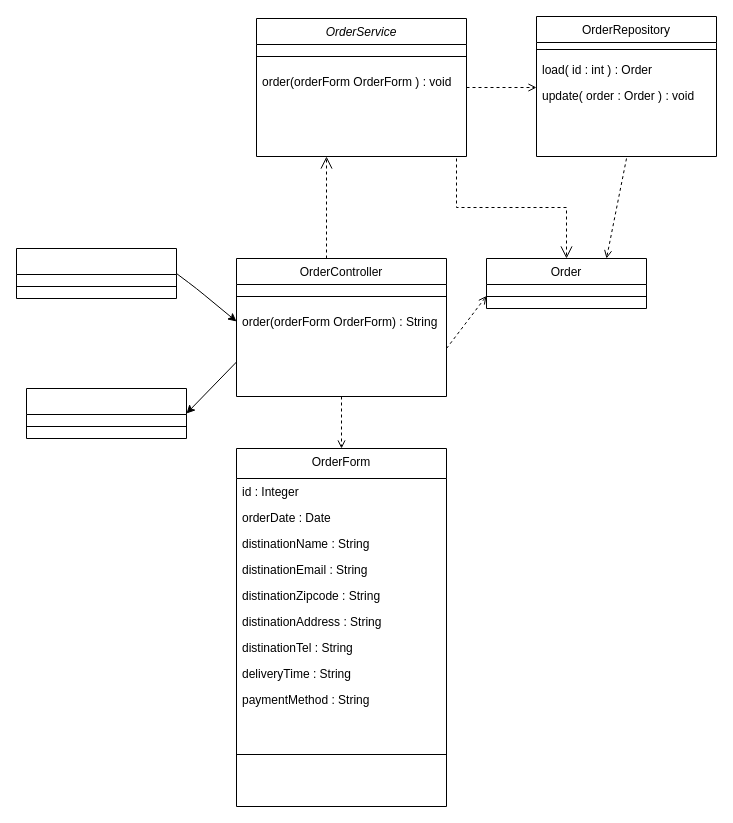
The diagram is 733 pixels wide and 823 high, and some of its shapes have lost their labels. Each missing label, with the centre of its shape:
"order-confirm.html" belongs at [96,273].
"order-finishe.html" belongs at [106,413].
